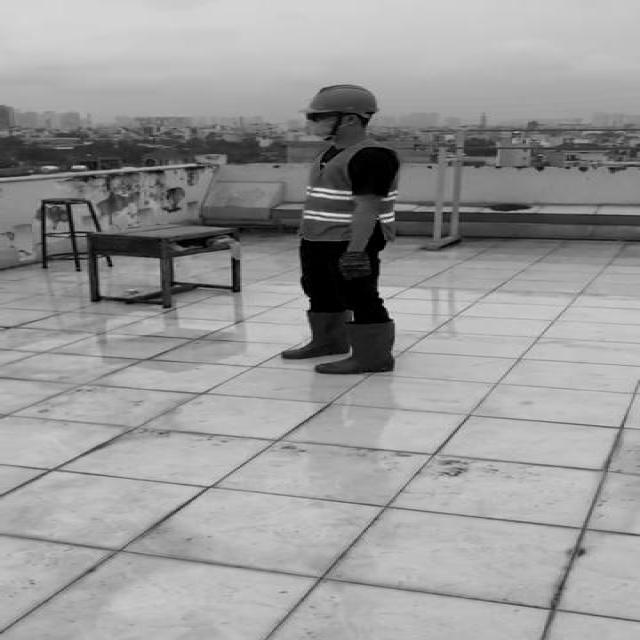boots: (314, 319, 396, 375), (279, 313, 354, 359)
face_mask: (298, 111, 338, 142)
hand_glove: (334, 250, 374, 280)
head_helmet: (304, 80, 380, 114)
person: (268, 82, 415, 384)
vest: (295, 140, 402, 243)
